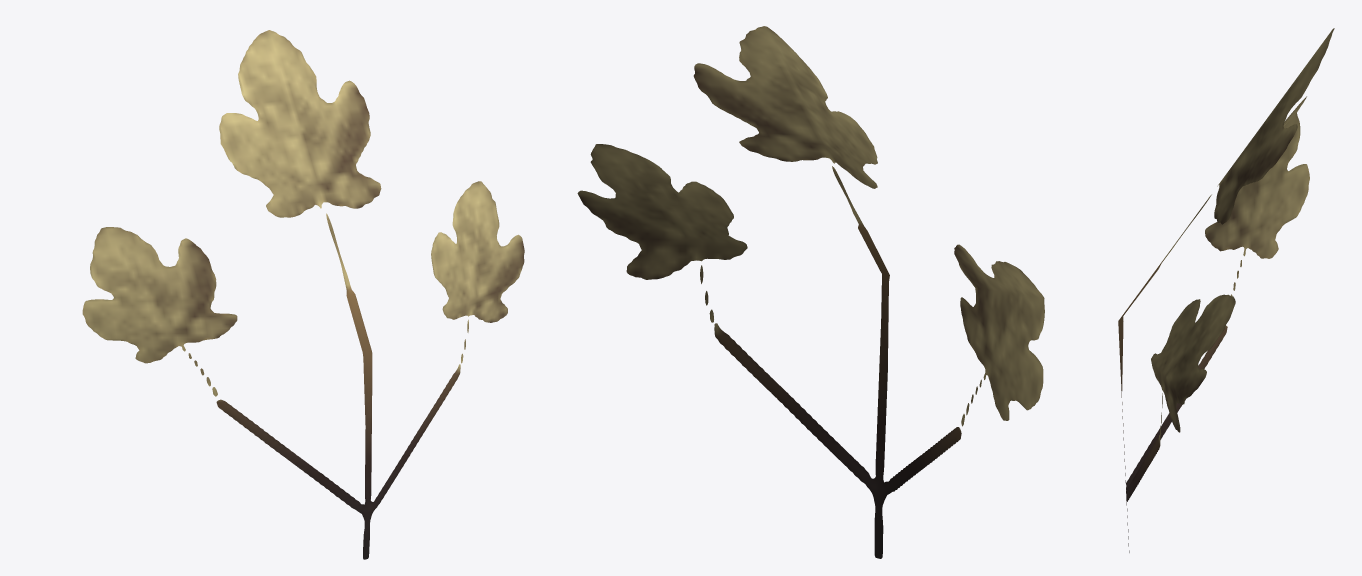
The model's file is rama_planta_2.fbx.
The picture shows the model from 3 angles, left to right: view 1: azimuth 30°, elevation 25°; view 2: azimuth 150°, elevation 25°; view 3: azimuth 270°, elevation 25°; orthographic projection. The views are drawn at different scales.
Visible parts, largest first — view 1: rama_planta_2; view 2: rama_planta_2; view 3: rama_planta_2.
Part boxes in pixels (x1=…): rama_planta_2: x1=82, y1=30, x2=524, y2=559; rama_planta_2: x1=577, y1=26, x2=1044, y2=558; rama_planta_2: x1=1118, y1=28, x2=1334, y2=552.
Bounding box in the file's own units: 60.01 × 59.9 × 23.24.
